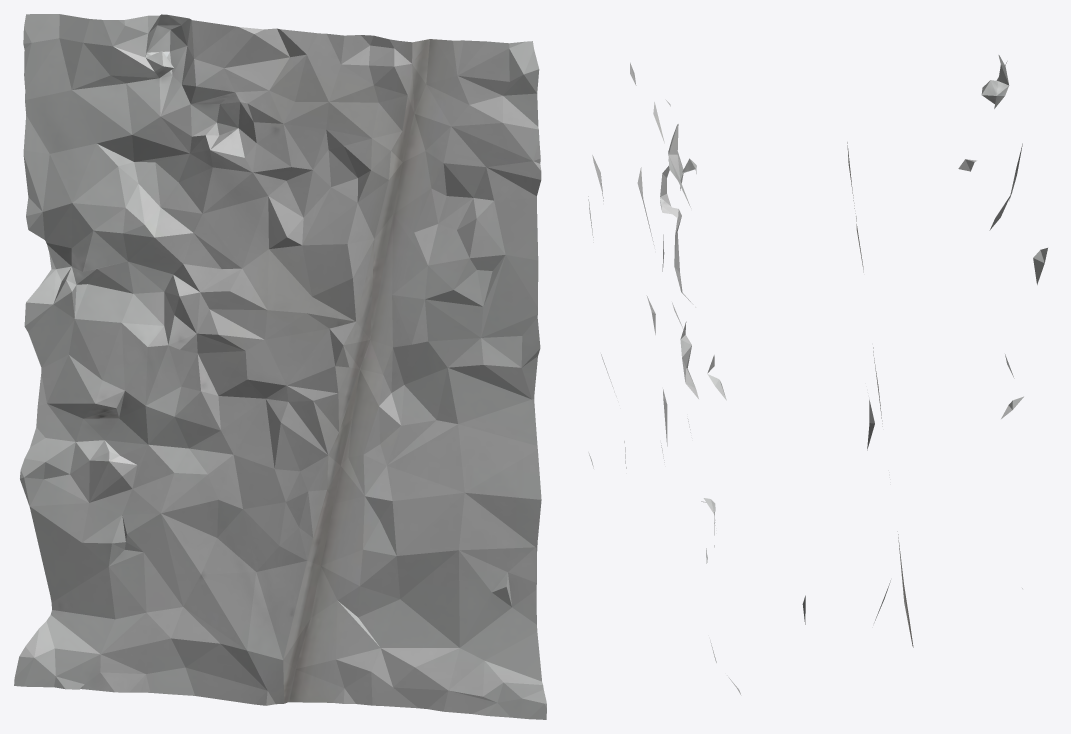
3 renders of one model, left to right at view 1: azimuth 30°, elevation 25°; view 2: azimuth 150°, elevation 25°; view 3: azimuth 270°, elevation 25°, orthographic. The views are drawn at different scales.
Size of the model in its own units: 0.9554 by 1.67 by 0.7641.
Materials: 2 (2 with a texture image).
